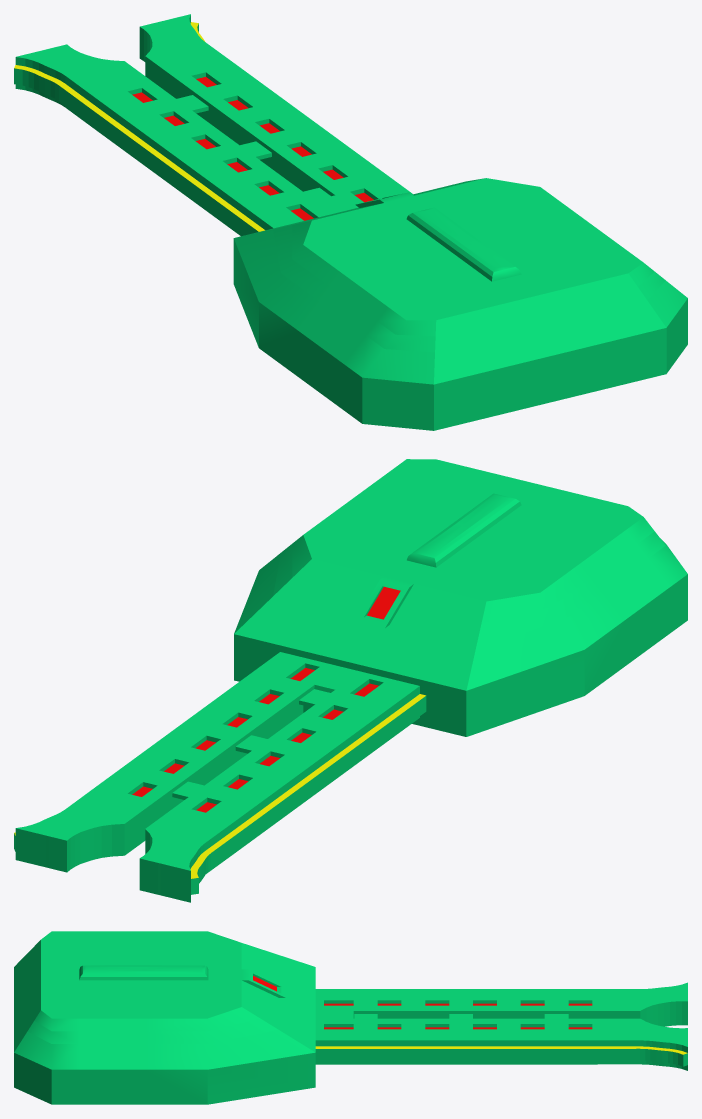
Rendered from SM_Wep_Cannonball.fbx.
3 renders of one model, top to bottom at view 1: azimuth 30°, elevation 25°; view 2: azimuth 150°, elevation 25°; view 3: azimuth 270°, elevation 25°, orthographic. The views are drawn at different scales.
Visible parts, largest first — view 1: Turret, Barrel; view 2: Turret, Barrel; view 3: Turret, Barrel.
Boxes of the visible parts, x1,y1,x2,y2 form: Turret: (233,178,687,430); Barrel: (14,14,412,236); Turret: (234,459,687,736); Barrel: (14,652,426,902); Turret: (14,931,315,1104); Barrel: (315,982,687,1070).
Size of the model in its own units: 63.13 by 18.66 by 150.
